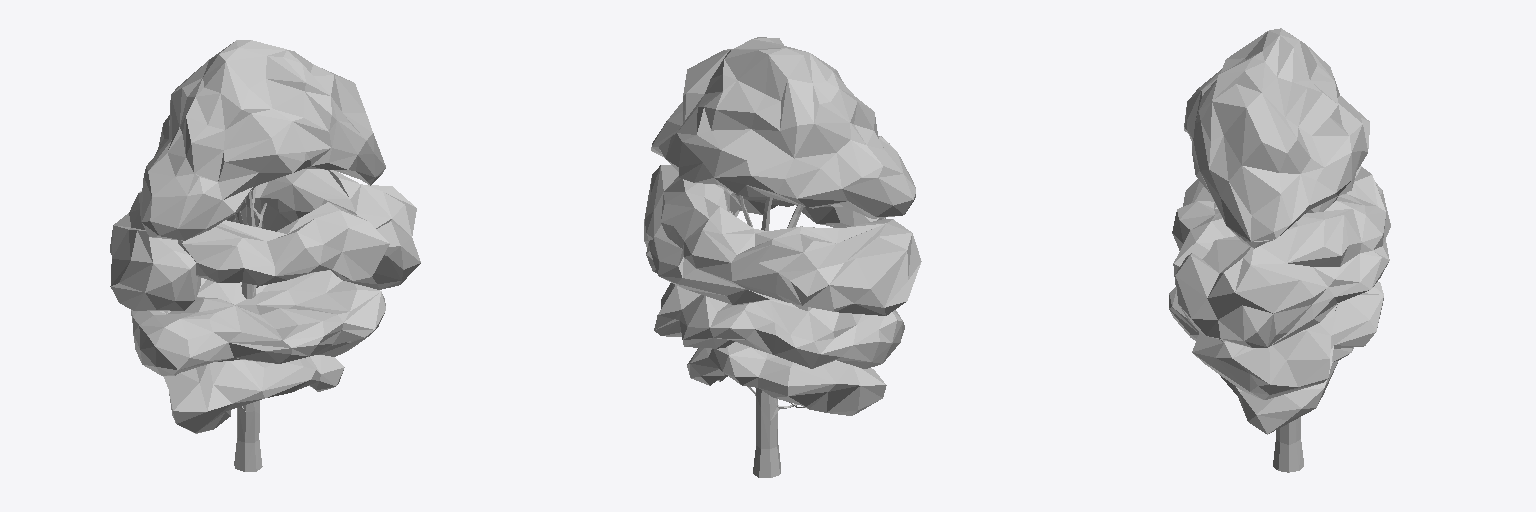
Rendered from Elm tree.obj.
3 renders of one model, left to right at view 1: azimuth 30°, elevation 25°; view 2: azimuth 150°, elevation 25°; view 3: azimuth 270°, elevation 25°, orthographic.
Visible parts, largest first — view 1: obj1; view 2: obj1; view 3: obj1.
Boxes of the visible parts, x1=… form: obj1: x1=110, y1=40, x2=420, y2=471; obj1: x1=644, y1=37, x2=921, y2=477; obj1: x1=1169, y1=28, x2=1390, y2=472.
Size of the model in its own units: 14.77 by 21.61 by 10.27.